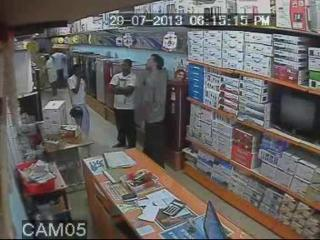Normal: (136, 54, 168, 167), (269, 90, 320, 146), (110, 59, 138, 148), (67, 65, 87, 104)
